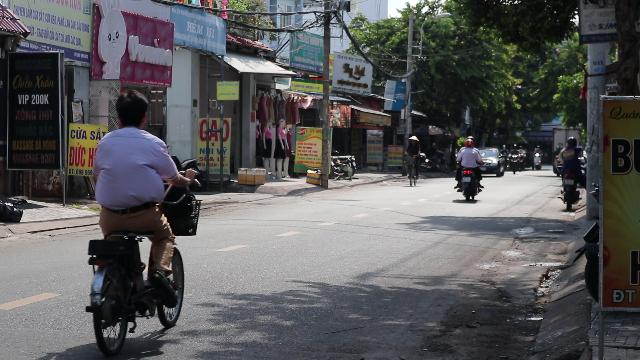motorcyclist: (78, 89, 198, 359)
nohelmet: (110, 90, 150, 132)
